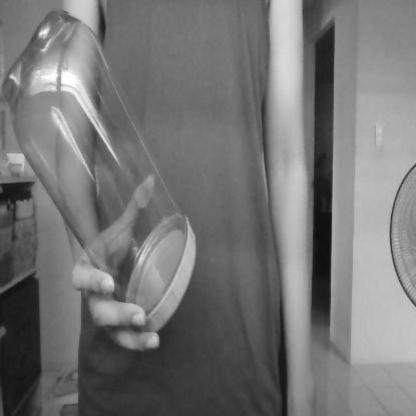Plastic Bottle: (1, 11, 199, 339)
